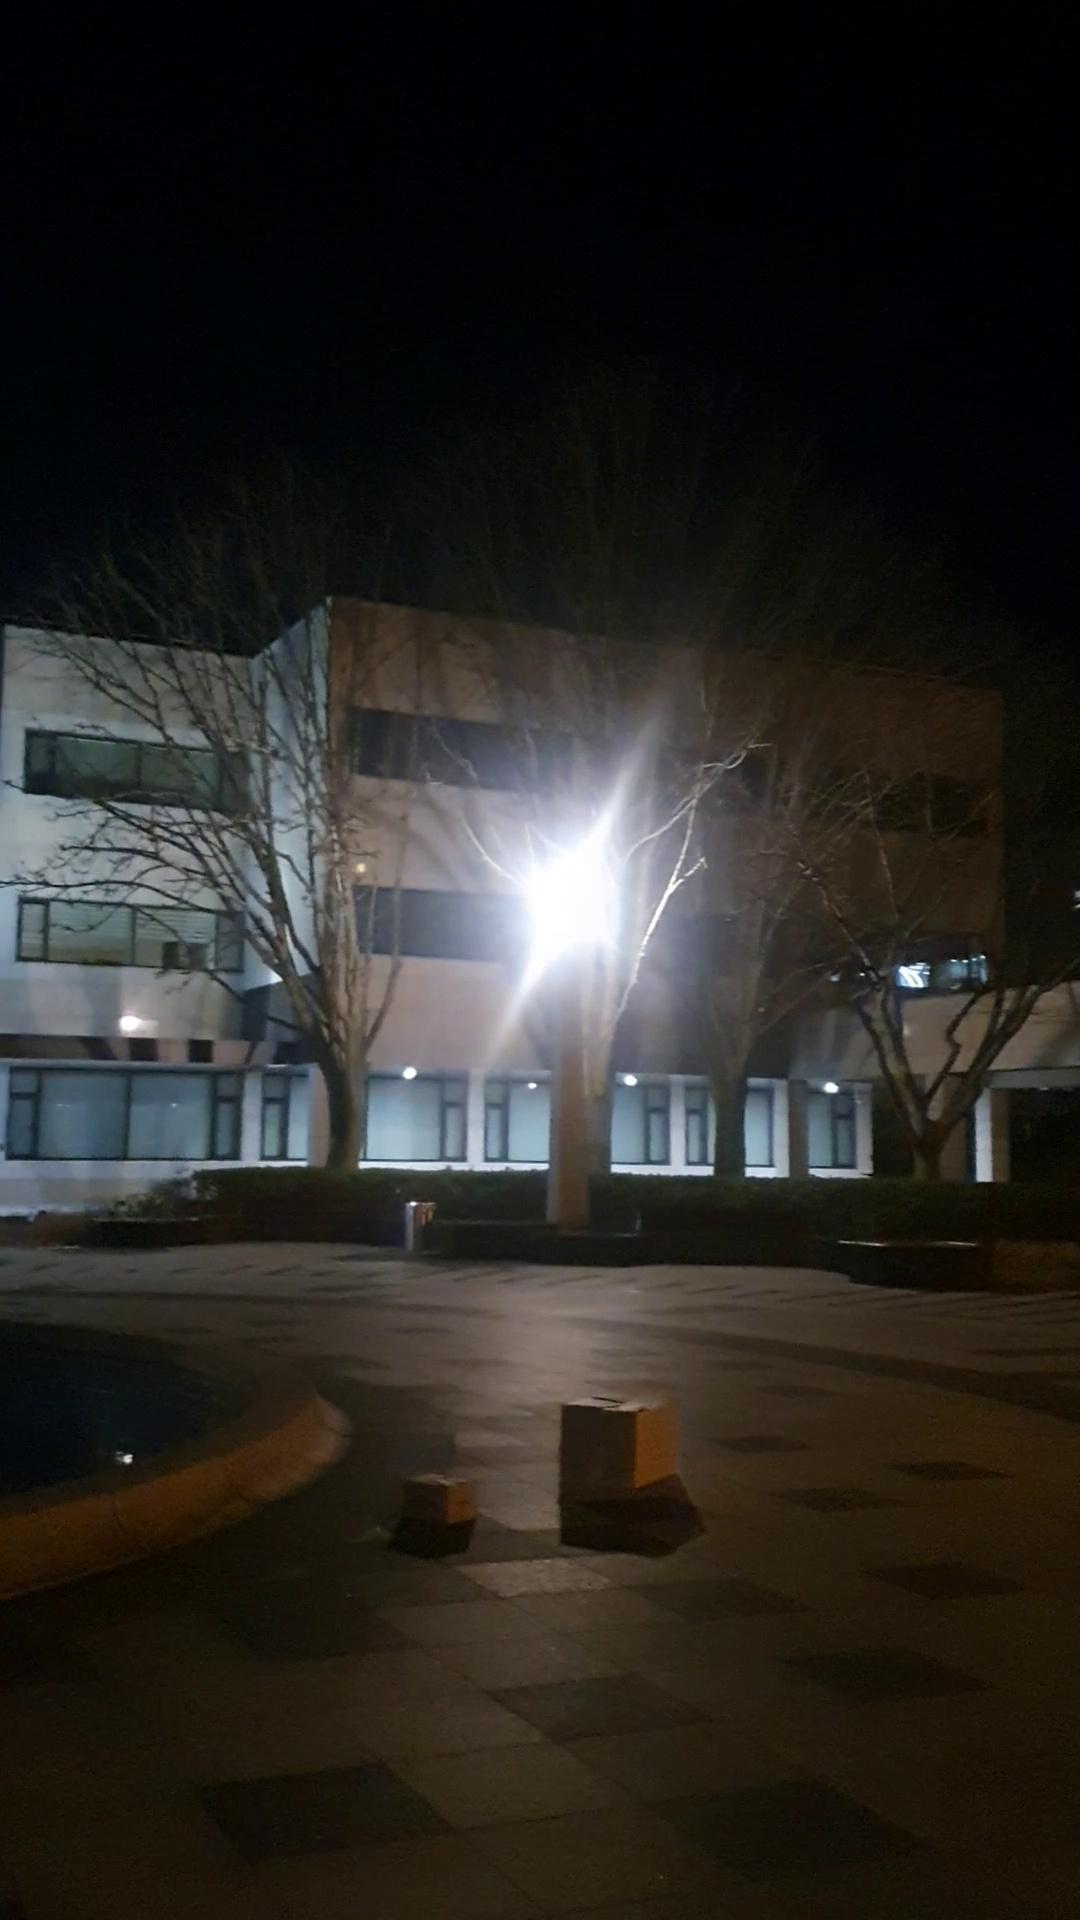Box: (556, 1370, 687, 1522), (381, 1455, 480, 1538)
